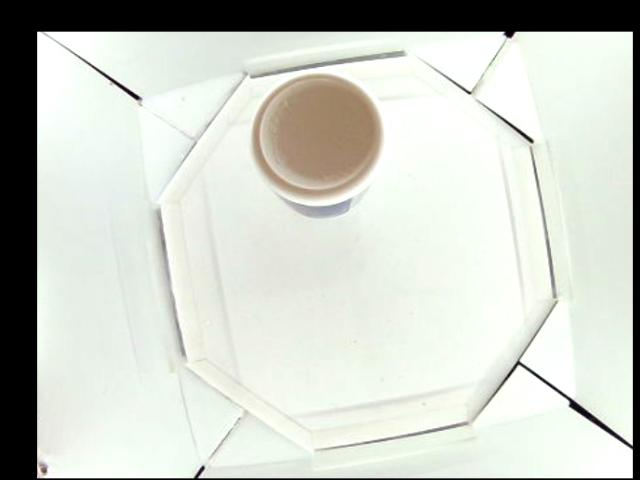Bottle: (254, 68, 389, 218)
